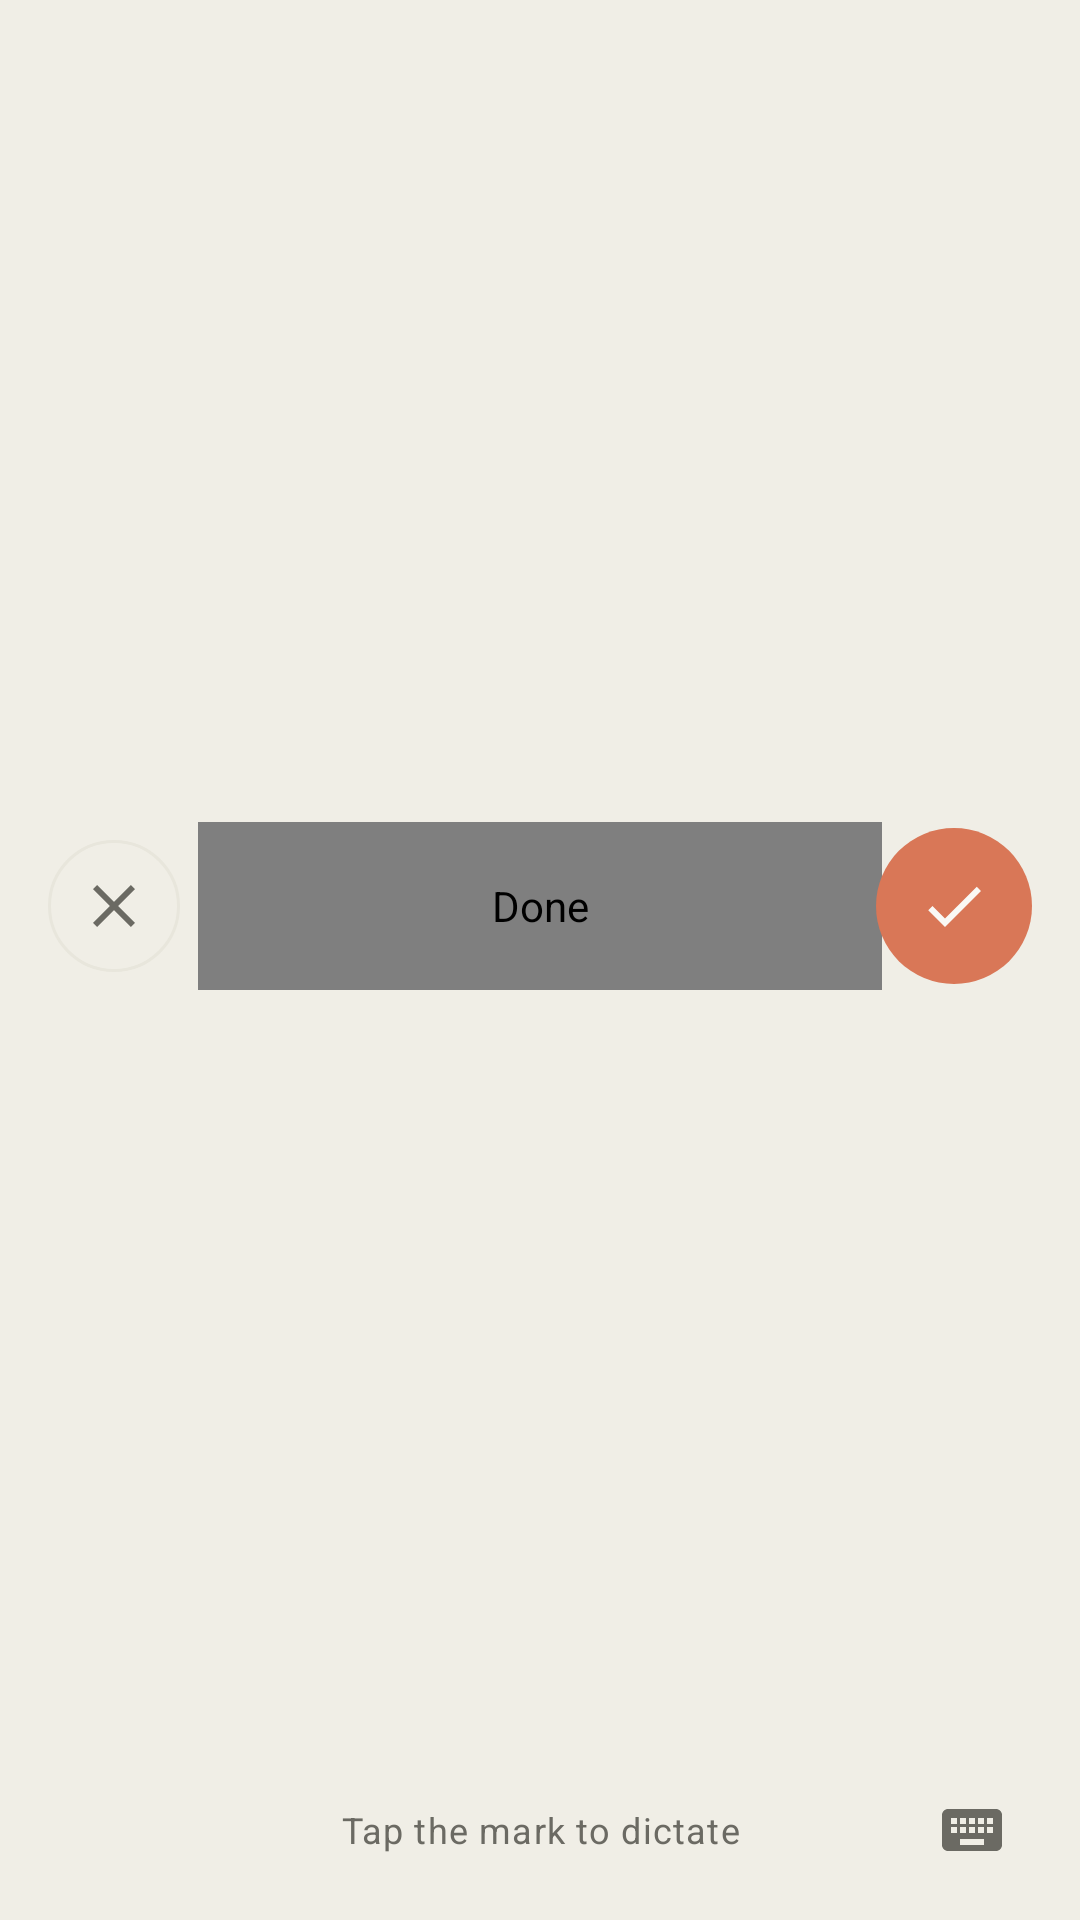

Icons on this 1080w x 1920h Android screen, each with its box as (x1, y1, x2, y2):
Back to keyboard: (942, 1809, 1002, 1851)
Cancel: (93, 885, 135, 927)
